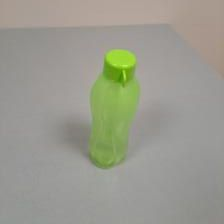bottle: (83, 45, 143, 167)
